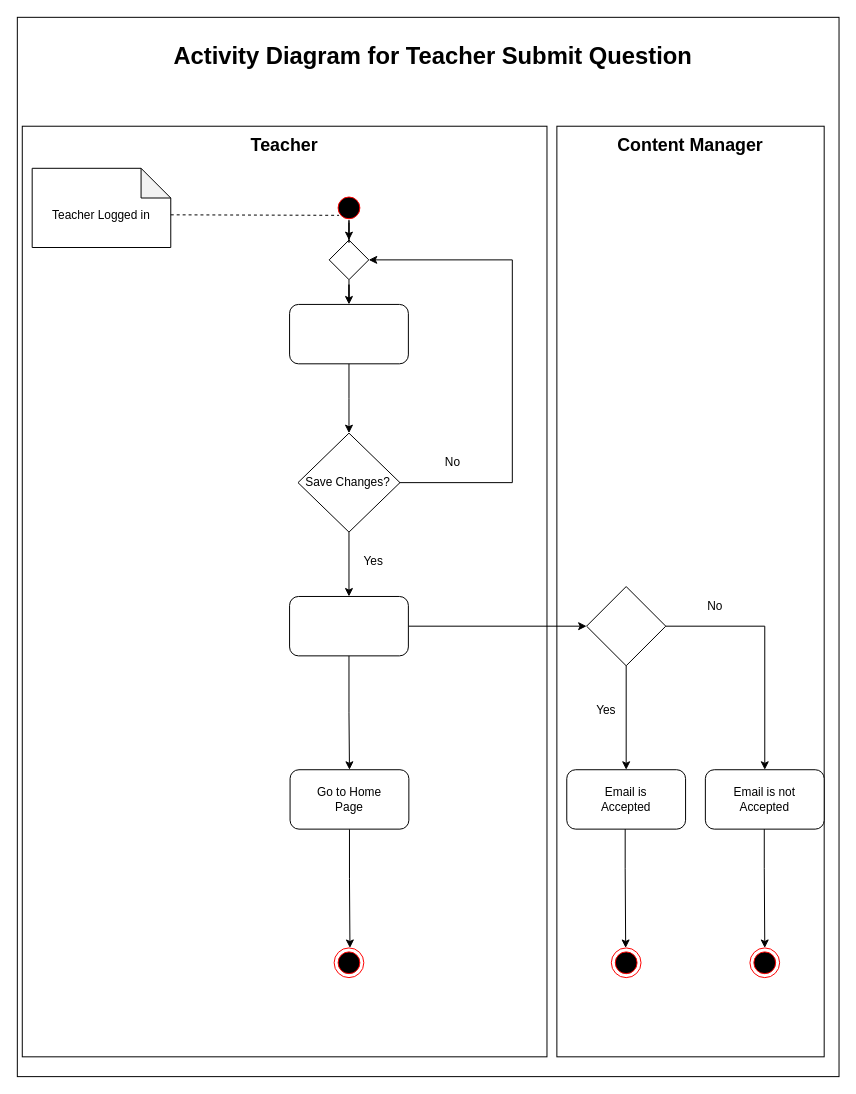
Some shapes in this 856 by 1094 pixel diagram are drawn without their labels. Here are the shapes that lost their labels. From the top down, the box of each, then its label:
(289, 303, 408, 364): Enter Question
(289, 595, 408, 656): Request Content Manager
(586, 586, 666, 666): Access
